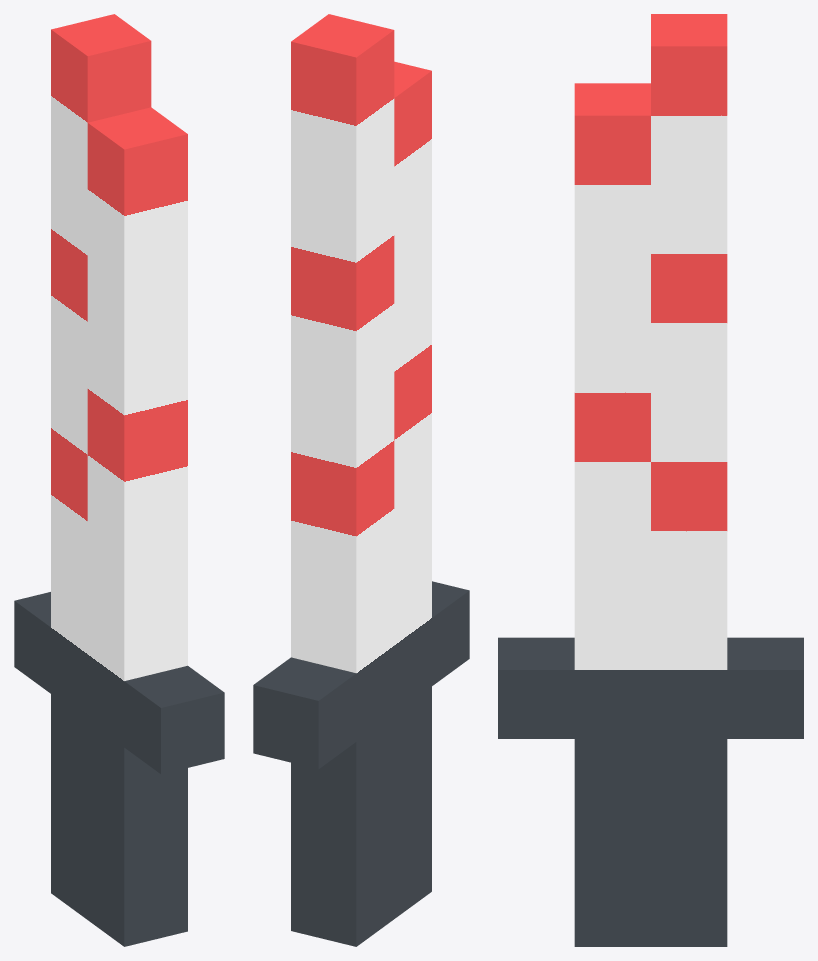
The model's file is 沾血的小刀.gltf.
The picture shows the model from 3 angles, left to right: view 1: azimuth 30°, elevation 25°; view 2: azimuth 150°, elevation 25°; view 3: azimuth 270°, elevation 25°; orthographic projection. The views are drawn at different scales.
Parts seen in each view (by area): view 1: Object; view 2: Object; view 3: Object.
Part boxes in pixels (box(x1,y1,x2,y2)): Object: box(14, 14, 224, 946); Object: box(253, 14, 469, 946); Object: box(498, 14, 803, 946).
Size of the model in its own units: 1 by 13 by 4.
1 material, 1 textured.
